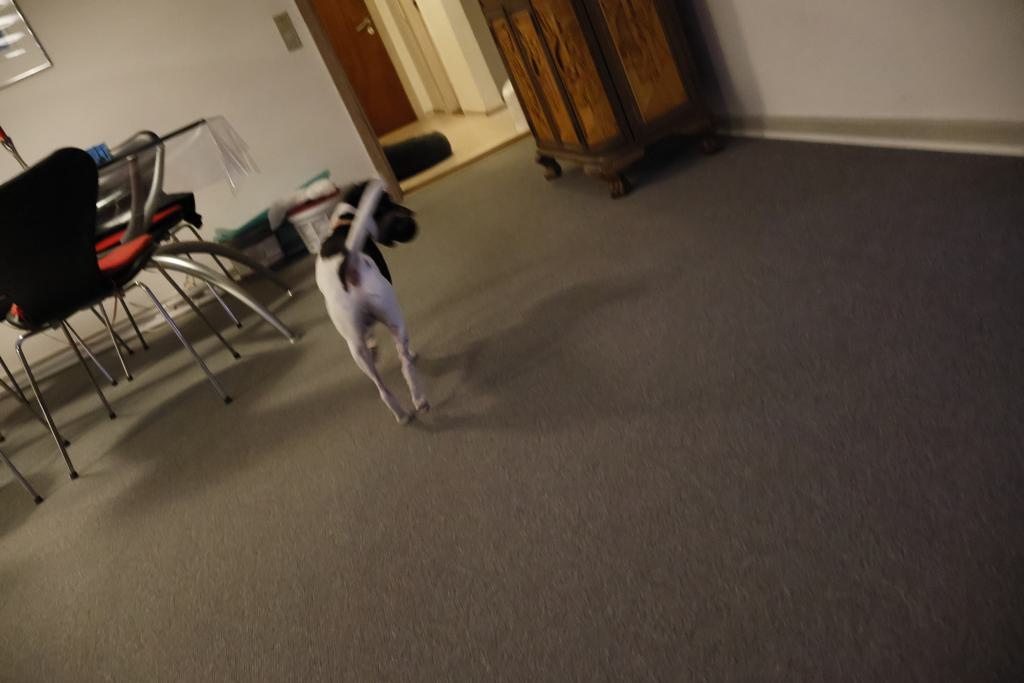Dog: (302, 167, 446, 430)
